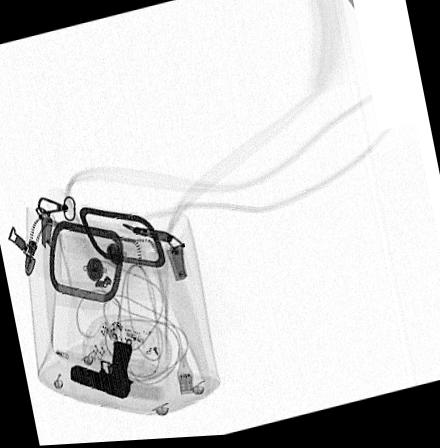Gun: (69, 341, 135, 400)
